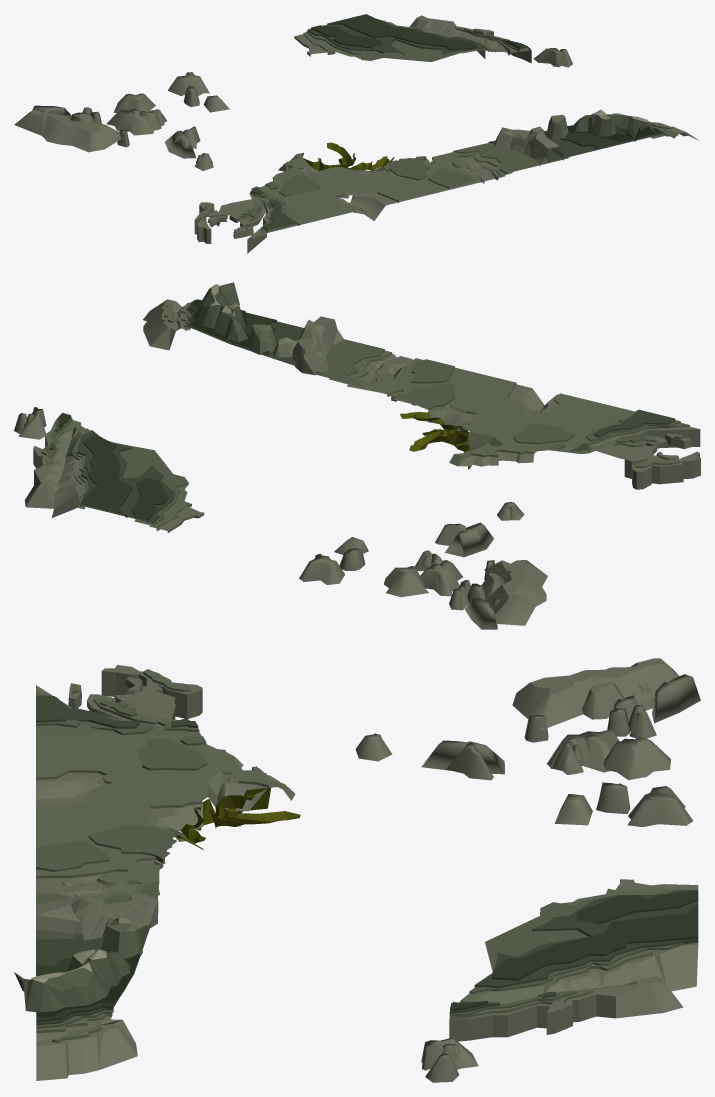
The model's file is ground_gray.fbx.
3 views of the same model, one above another, from view 1: azimuth 30°, elevation 25°; view 2: azimuth 150°, elevation 25°; view 3: azimuth 270°, elevation 25° (orthographic). The views are drawn at different scales.
Visible parts, largest first — view 1: ground_gray; view 2: ground_gray; view 3: ground_gray.
Boxes of the visible parts, x1,y1,x2,y2 form: ground_gray: (14, 14, 699, 253); ground_gray: (14, 282, 700, 629); ground_gray: (14, 658, 700, 1082).
Bounding box in the file's own units: 223439 × 19321 × 157980.
